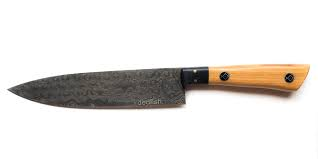knife: (6, 61, 314, 108)
